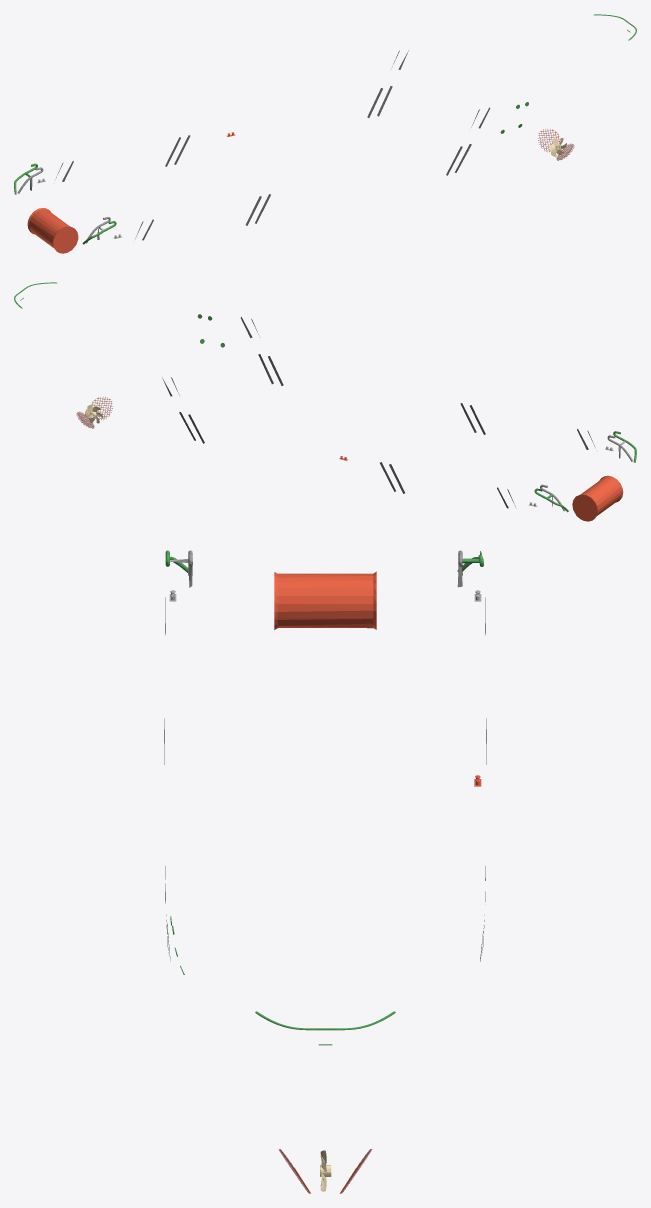
The model's file is hull_fittings.dae.
3 views of the same model, one above another, from view 1: azimuth 30°, elevation 25°; view 2: azimuth 150°, elevation 25°; view 3: azimuth 270°, elevation 25° (orthographic). The views are drawn at different scales.
Visible parts, largest first — view 1: node6; view 2: node6; view 3: node6.
Part boxes in pixels (x1,y1,x2,y2): node6: (27, 208, 78, 253); node6: (572, 475, 623, 521); node6: (274, 571, 376, 629).
Size of the model in its own units: 1.48 by 0.3517 by 0.2796.
